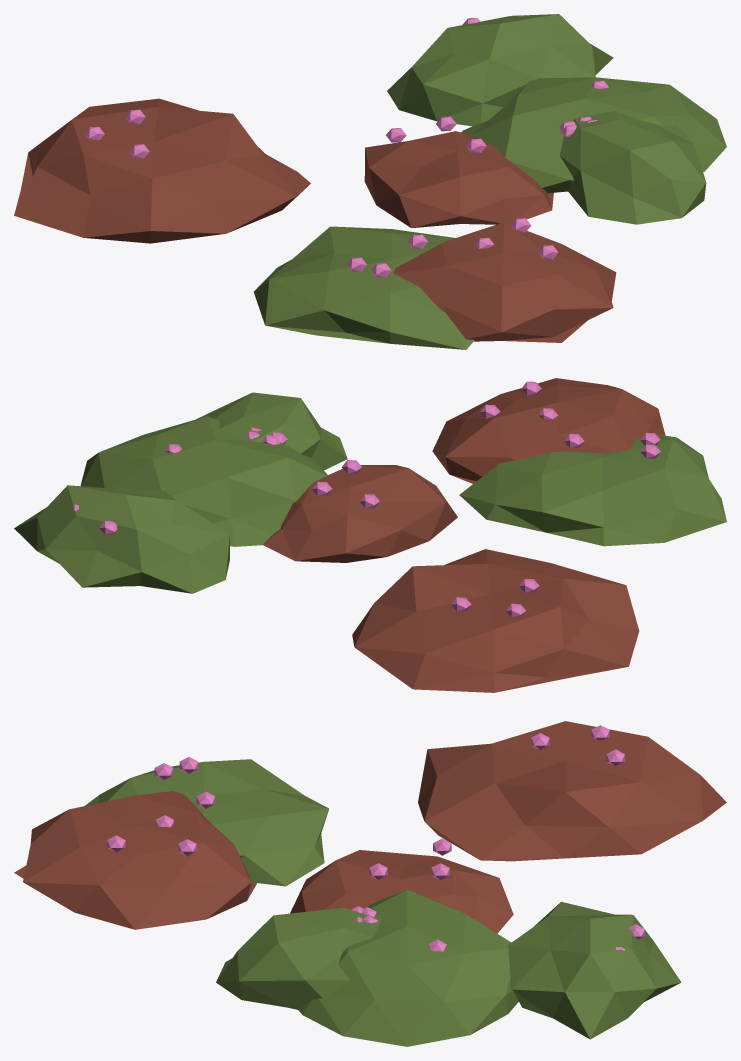
The model's file is TU_Plant_ArcticMoss.obj.
The picture shows the model from 3 angles, top to bottom: view 1: azimuth 30°, elevation 25°; view 2: azimuth 150°, elevation 25°; view 3: azimuth 270°, elevation 25°; orthographic projection. The views are drawn at different scales.
Visible parts, largest first — view 1: cushion_0, cushion_3, cushion_5, cushion_4, cushion_6, cushion_2, cushion_1; view 2: cushion_0, cushion_5, cushion_2, cushion_4, cushion_3, cushion_6, cushion_1; view 3: cushion_0, cushion_3, cushion_2, cushion_4, cushion_5, cushion_1, cushion_6.
Boxes of the visible parts, x1,y1,x2,y2 form: cushion_0: (14, 98, 310, 243); cushion_3: (393, 222, 616, 342); cushion_5: (254, 226, 474, 349); cushion_4: (387, 14, 613, 126); cushion_6: (364, 131, 553, 228); cushion_2: (461, 77, 726, 193); cushion_1: (560, 111, 706, 224); cushion_0: (352, 549, 639, 692); cushion_5: (459, 434, 726, 546); cushion_2: (80, 416, 327, 546); cushion_4: (14, 485, 229, 593); cushion_3: (432, 378, 665, 483); cushion_6: (263, 465, 457, 562); cushion_1: (196, 392, 347, 470); cushion_0: (418, 721, 726, 861); cushion_3: (14, 791, 256, 929); cushion_2: (298, 889, 518, 1046); cushion_4: (508, 901, 681, 1039); cushion_5: (85, 759, 328, 886); cushion_1: (216, 908, 380, 1009); cushion_6: (290, 850, 513, 933).
Bounding box in the file's own units: 5.48 × 0.517 × 5.24.
